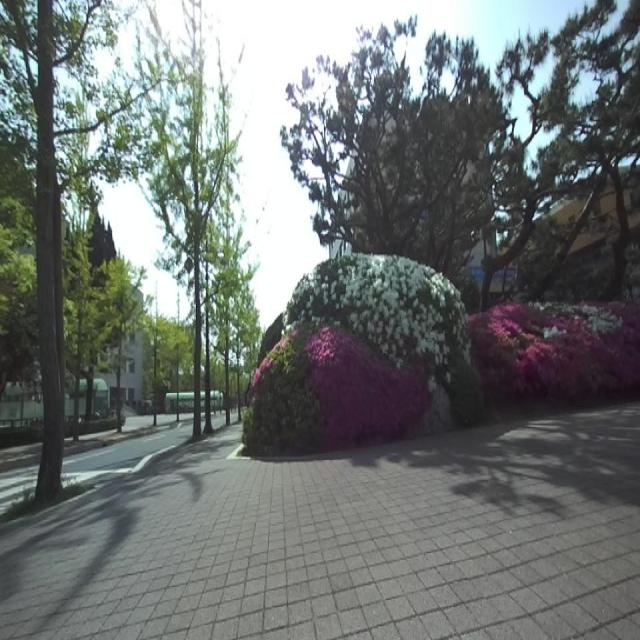sidewalk: (0, 400, 640, 639)
